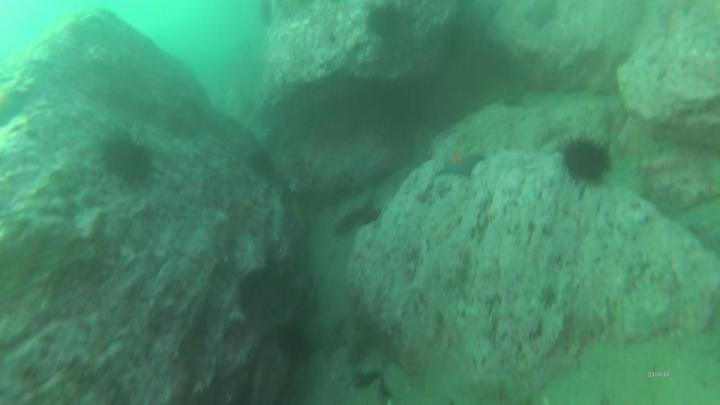echinus: (107, 142, 150, 185), (567, 140, 608, 185), (275, 323, 311, 364), (370, 11, 400, 37), (249, 154, 276, 176)
starfish: (313, 323, 346, 360), (441, 153, 484, 177)
